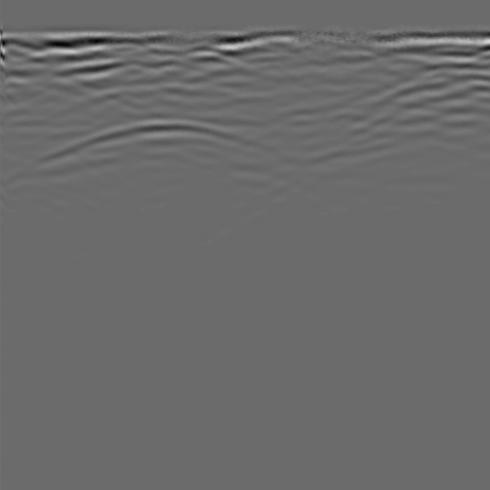hyperbola: (19, 101, 310, 245)
